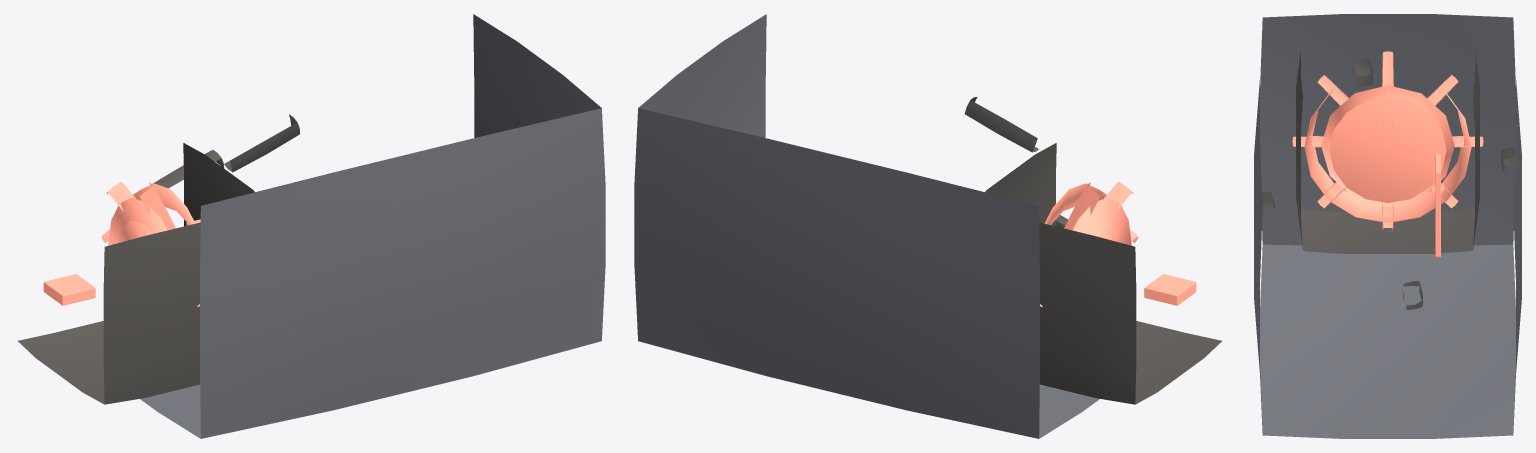
3 views of the same model, side by side, from view 1: azimuth 30°, elevation 25°; view 2: azimuth 150°, elevation 25°; view 3: azimuth 270°, elevation 25° (orthographic). The views are drawn at different scales.
Visible parts, largest first — view 1: LOD0_ENGINE_VECTOR_MAIN, engine_vector_Material_Mechanical_Merged, HOOK_DRIVE_CORE, DET_nozzle_scorch, HOOK_DRIVE_FAN; view 2: LOD0_ENGINE_VECTOR_MAIN, engine_vector_Material_Mechanical_Merged, HOOK_DRIVE_CORE, DET_nozzle_scorch, HOOK_DRIVE_FAN; view 3: LOD0_ENGINE_VECTOR_MAIN, HOOK_DRIVE_CORE, engine_vector_Material_Mechanical_Merged, HOOK_DRIVE_PLUME, HOOK_DRIVE_FAN, DET_heat_streak.
Part boxes in pixels (left/top/right/bottom): LOD0_ENGINE_VECTOR_MAIN: left=140, top=14, right=605, bottom=438; engine_vector_Material_Mechanical_Merged: left=18, top=114, right=316, bottom=404; HOOK_DRIVE_CORE: left=108, top=183, right=195, bottom=245; DET_nozzle_scorch: left=43, top=274, right=95, bottom=305; HOOK_DRIVE_FAN: left=101, top=181, right=199, bottom=306; LOD0_ENGINE_VECTOR_MAIN: left=634, top=14, right=1099, bottom=438; engine_vector_Material_Mechanical_Merged: left=964, top=97, right=1221, bottom=404; HOOK_DRIVE_CORE: left=1044, top=183, right=1131, bottom=245; DET_nozzle_scorch: left=1144, top=274, right=1196, bottom=305; HOOK_DRIVE_FAN: left=1040, top=181, right=1138, bottom=306; LOD0_ENGINE_VECTOR_MAIN: left=1254, top=14, right=1521, bottom=438; HOOK_DRIVE_CORE: left=1304, top=89, right=1471, bottom=222; engine_vector_Material_Mechanical_Merged: left=1262, top=51, right=1515, bottom=310; HOOK_DRIVE_PLUME: left=1321, top=85, right=1454, bottom=206; HOOK_DRIVE_FAN: left=1292, top=51, right=1483, bottom=230; DET_heat_streak: left=1435, top=154, right=1440, bottom=257.
Bounding box in the file's own units: 3.31 × 1.72 × 1.6.
